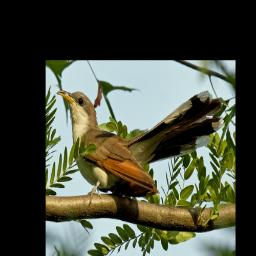Cuckoo: (57, 90, 225, 200)
